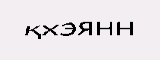Н: (114, 15, 136, 38), (93, 18, 114, 38)
Х: (42, 19, 60, 38)
Э: (59, 19, 78, 38)
Я: (77, 17, 95, 37)
Қ: (23, 22, 43, 39)
